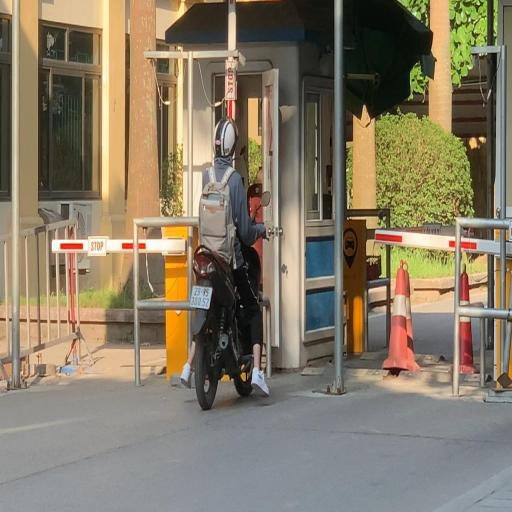bike: (187, 113, 276, 413)
numberplate: (190, 284, 214, 308)
with helmet: (214, 114, 237, 160)
